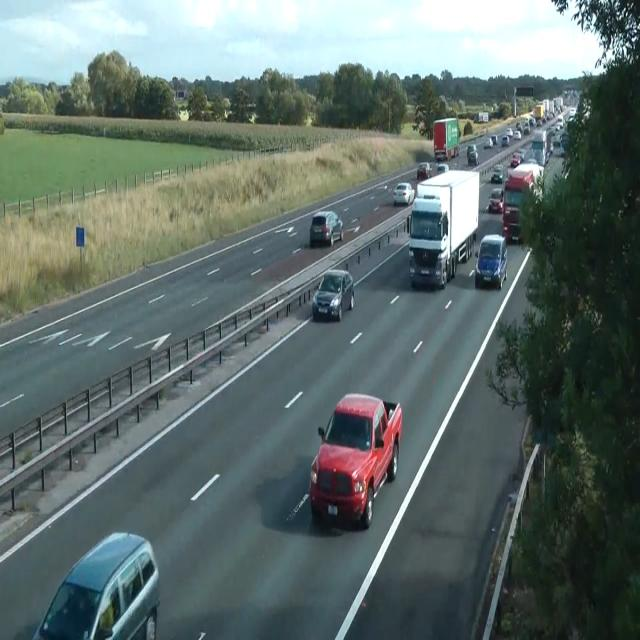bus: (312, 268, 354, 322), (309, 210, 343, 247), (393, 182, 415, 206), (488, 188, 504, 212), (417, 162, 431, 180), (490, 164, 504, 182), (466, 144, 478, 165), (550, 138, 564, 156), (510, 150, 524, 167), (437, 163, 449, 174), (467, 144, 477, 156), (483, 137, 493, 148), (512, 130, 522, 140), (501, 135, 509, 147), (490, 134, 498, 145), (506, 127, 513, 138)
jeep: (32, 530, 160, 638), (309, 391, 402, 529), (475, 233, 507, 289)
minibus: (408, 169, 479, 289), (502, 162, 544, 244), (433, 116, 459, 160), (530, 128, 552, 165), (474, 111, 488, 123)
